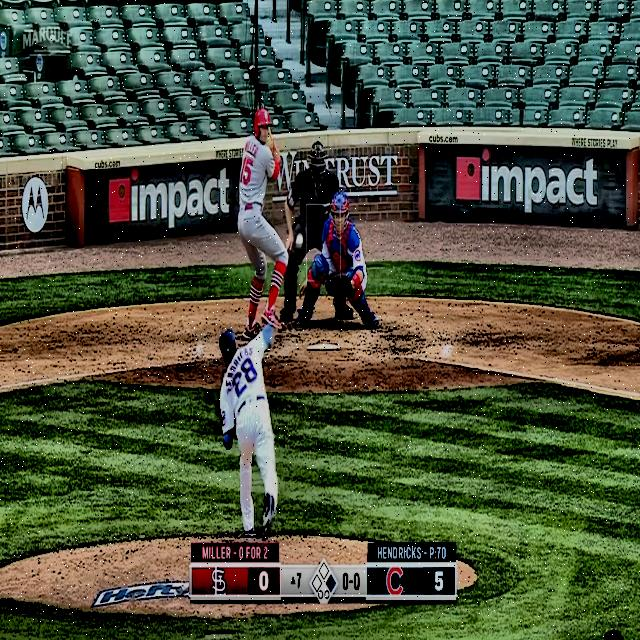baseball: (295, 232, 304, 249)
